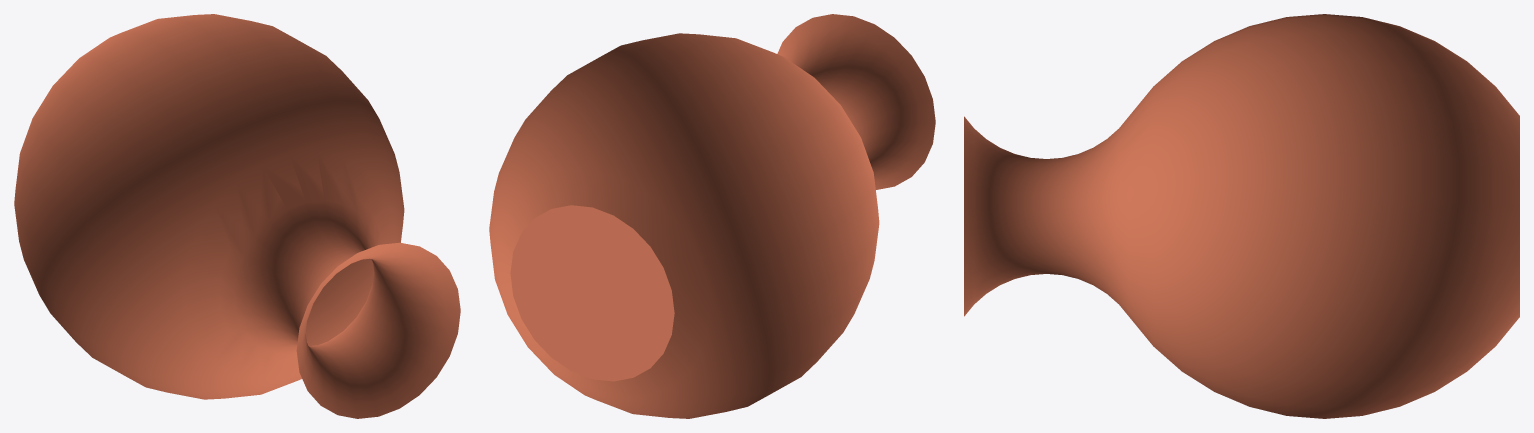
Rendered from model_align.obj.
3 renders of one model, left to right at view 1: azimuth 30°, elevation 25°; view 2: azimuth 150°, elevation 25°; view 3: azimuth 270°, elevation 25°, orthographic. The views are drawn at different scales.
Parts seen in each view (by area): view 1: mesh1_mesh1-geometry; view 2: mesh1_mesh1-geometry; view 3: mesh1_mesh1-geometry.
Boxes of the visible parts, x1=… form: mesh1_mesh1-geometry: x1=14, y1=14, x2=460, y2=418; mesh1_mesh1-geometry: x1=489, y1=14, x2=935, y2=418; mesh1_mesh1-geometry: x1=964, y1=14, x2=1519, y2=418.
Bounding box in the file's own units: 0.1015 × 0.1015 × 0.1389.
